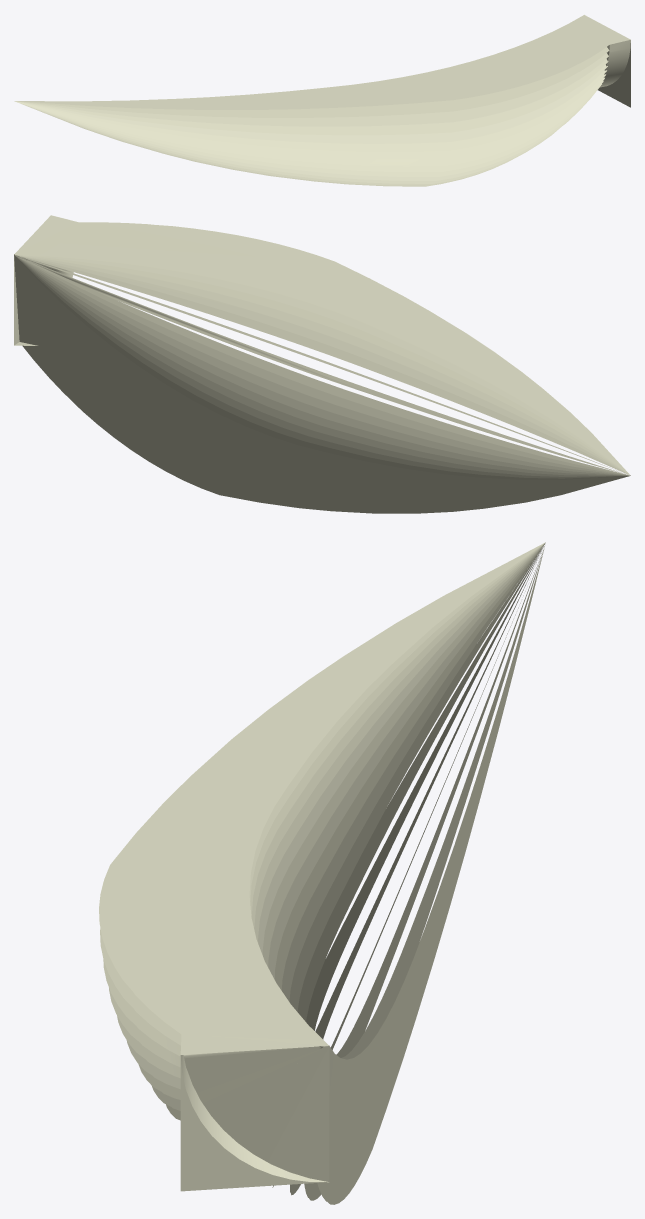
Rendered from original-6.obj.
The picture shows the model from 3 angles, top to bottom: view 1: azimuth 30°, elevation 25°; view 2: azimuth 150°, elevation 25°; view 3: azimuth 270°, elevation 25°; orthographic projection. The views are drawn at different scales.
Parts seen in each view (by area): view 1: mesh13/mesh13-geometry#mesh13-geometry; view 2: mesh13/mesh13-geometry#mesh13-geometry; view 3: mesh13/mesh13-geometry#mesh13-geometry.
Boxes of the visible parts, <box> form: mesh13/mesh13-geometry#mesh13-geometry: <box>14,15,630,186</box>; mesh13/mesh13-geometry#mesh13-geometry: <box>14,215,630,513</box>; mesh13/mesh13-geometry#mesh13-geometry: <box>99,542,545,1204</box>.
Bounding box in the file's own units: 0.3597 × 0.0867 × 0.1325.
